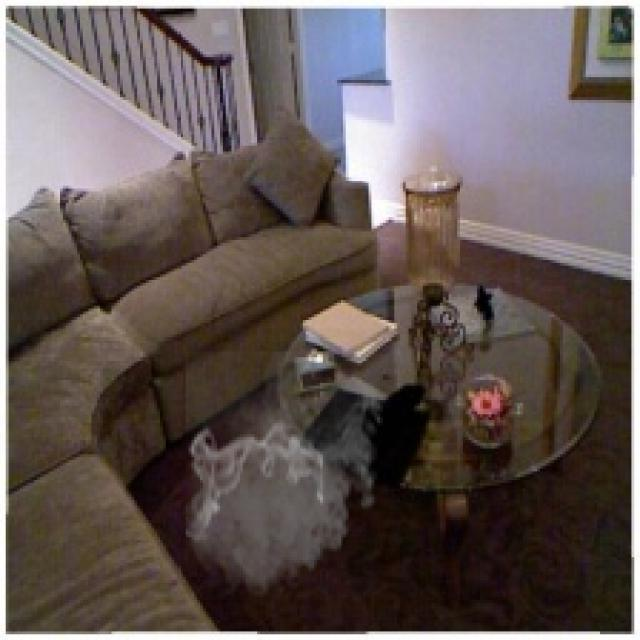Smoke: (182, 352, 388, 608)
